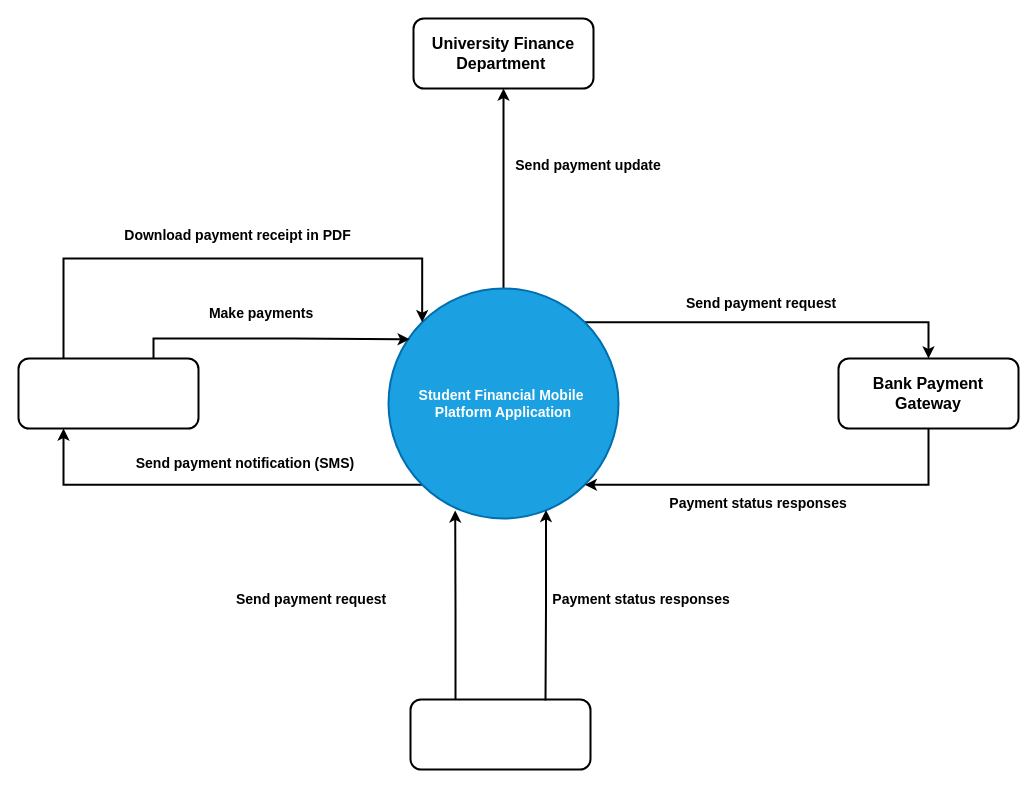
Image size: 1036x787. Some labels were removed from this diagram. Each missing label, with the box of its shape:
Mobile Money Service Providers: (409, 698, 591, 770)
Students: (17, 357, 199, 429)
